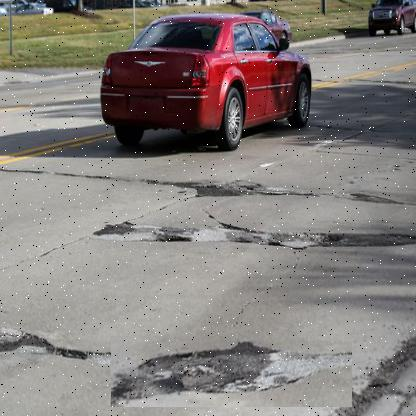damage: (100, 199, 402, 272), (111, 336, 353, 408), (171, 167, 314, 220)
